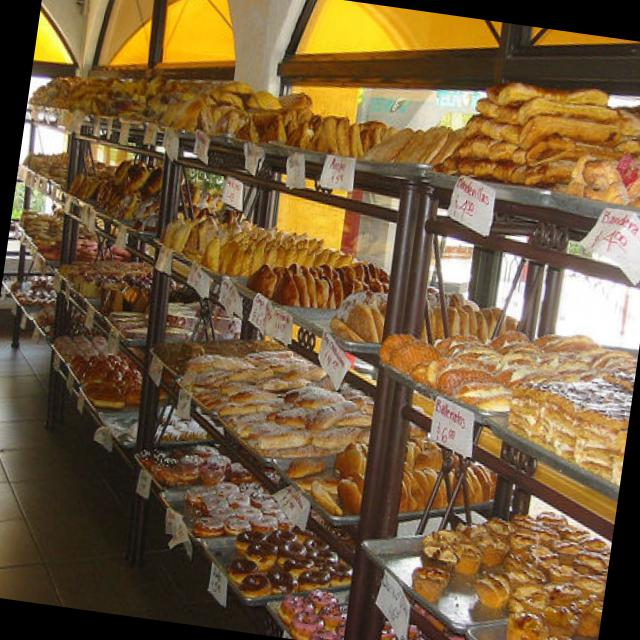cake occluded: (55, 258, 151, 306), (412, 565, 449, 599)
cakes: (184, 346, 375, 454), (440, 80, 624, 191), (421, 509, 607, 613), (377, 328, 611, 410), (508, 354, 635, 482), (299, 436, 495, 509), (162, 209, 353, 269), (330, 287, 518, 339), (29, 73, 222, 123), (95, 158, 219, 229), (232, 525, 350, 594), (249, 260, 387, 308), (185, 477, 290, 532), (279, 111, 394, 152), (141, 442, 250, 484), (357, 123, 462, 166), (151, 335, 261, 374), (510, 593, 601, 640), (563, 150, 640, 204), (68, 353, 141, 408), (278, 584, 347, 640), (152, 404, 208, 444), (55, 330, 117, 360)
floor -X: (0, 283, 259, 631)
shelves crop: (2, 104, 640, 640)
tray: (273, 451, 493, 526), (360, 532, 507, 637), (484, 412, 618, 500), (171, 79, 310, 139), (378, 362, 504, 423), (195, 533, 284, 604), (426, 167, 552, 204), (282, 306, 384, 351), (151, 234, 230, 285), (216, 413, 275, 466), (552, 188, 640, 222), (228, 272, 304, 309), (157, 482, 204, 541), (345, 154, 433, 180), (93, 200, 158, 233), (174, 375, 221, 420), (268, 138, 345, 162), (85, 111, 177, 130), (52, 264, 99, 301), (179, 127, 268, 146), (133, 447, 165, 488), (149, 345, 180, 383), (263, 598, 292, 638), (463, 621, 506, 640)
tray occluded: (96, 395, 213, 446)
trays: (51, 340, 97, 410)
wall clock: (28, 0, 640, 207)
